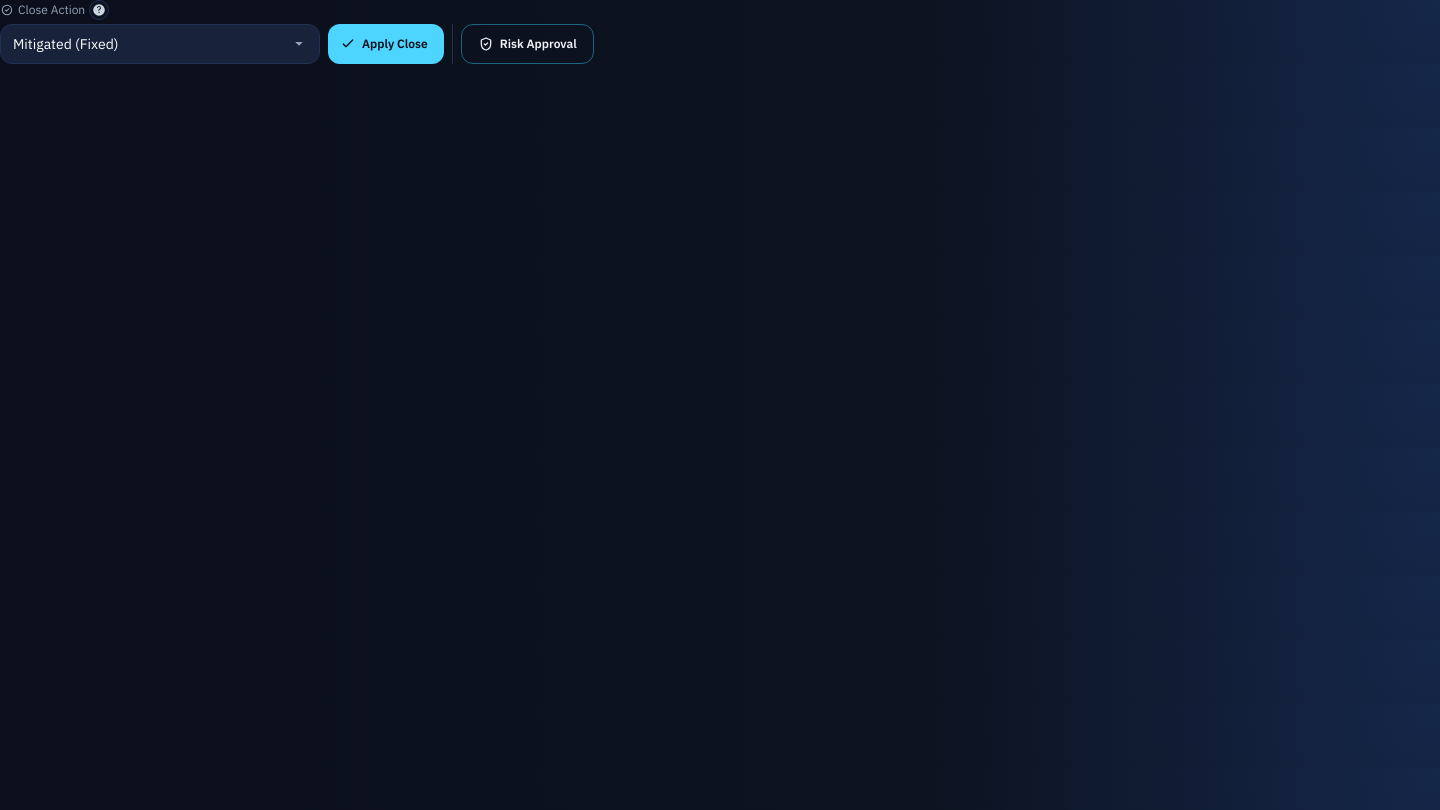
Scenario: FindingStatusActions › shows character counter in modal
Click the button "Risk Approval".
click(527, 44)  # box [461,24,594,64]
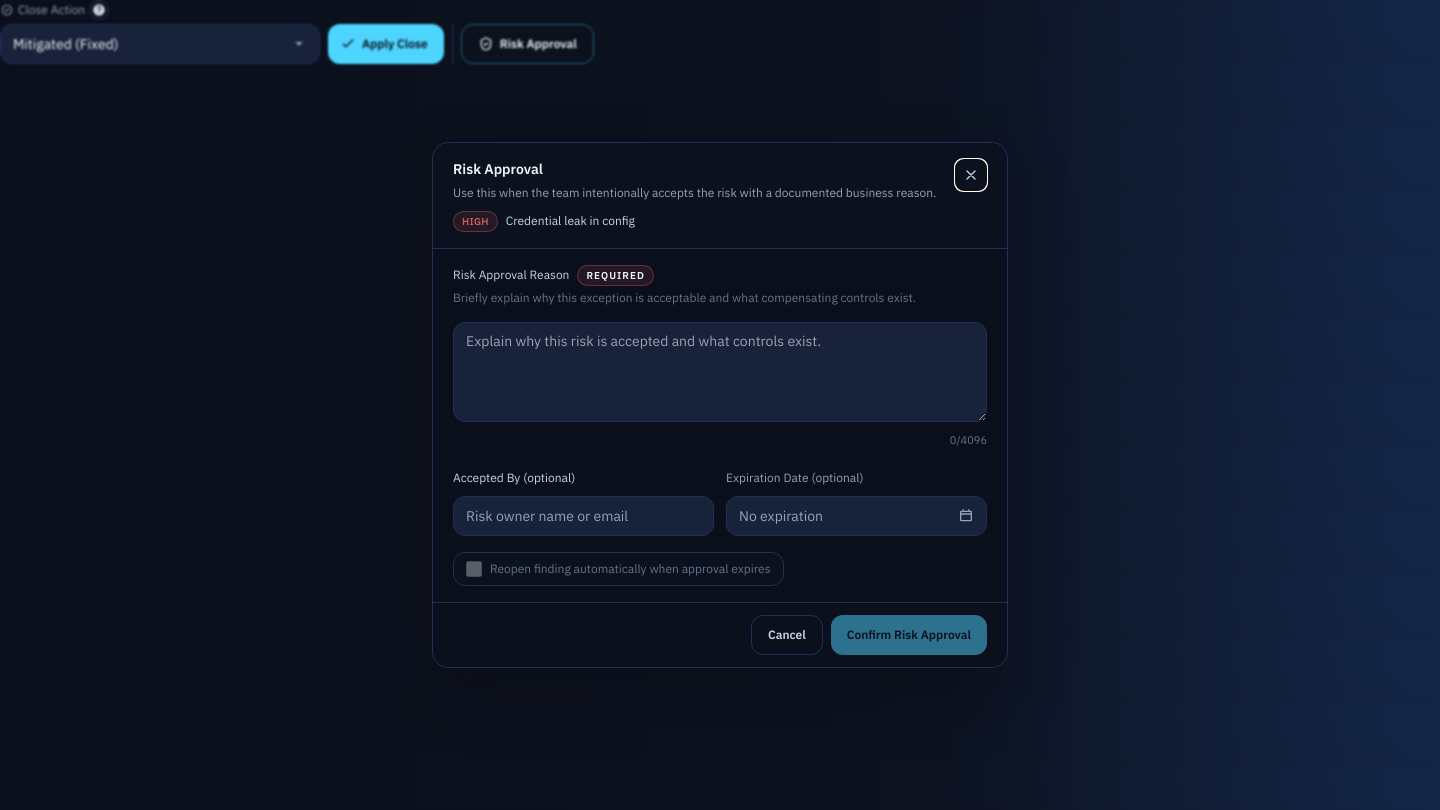
Result: the text "0/4096" is shown at [950,433,987,447]
Type "abc" into the text box with placeholder "Explain why this risk is accepted and what controls exist.".
click(720, 372); type("abc")  # box [453,322,987,422]
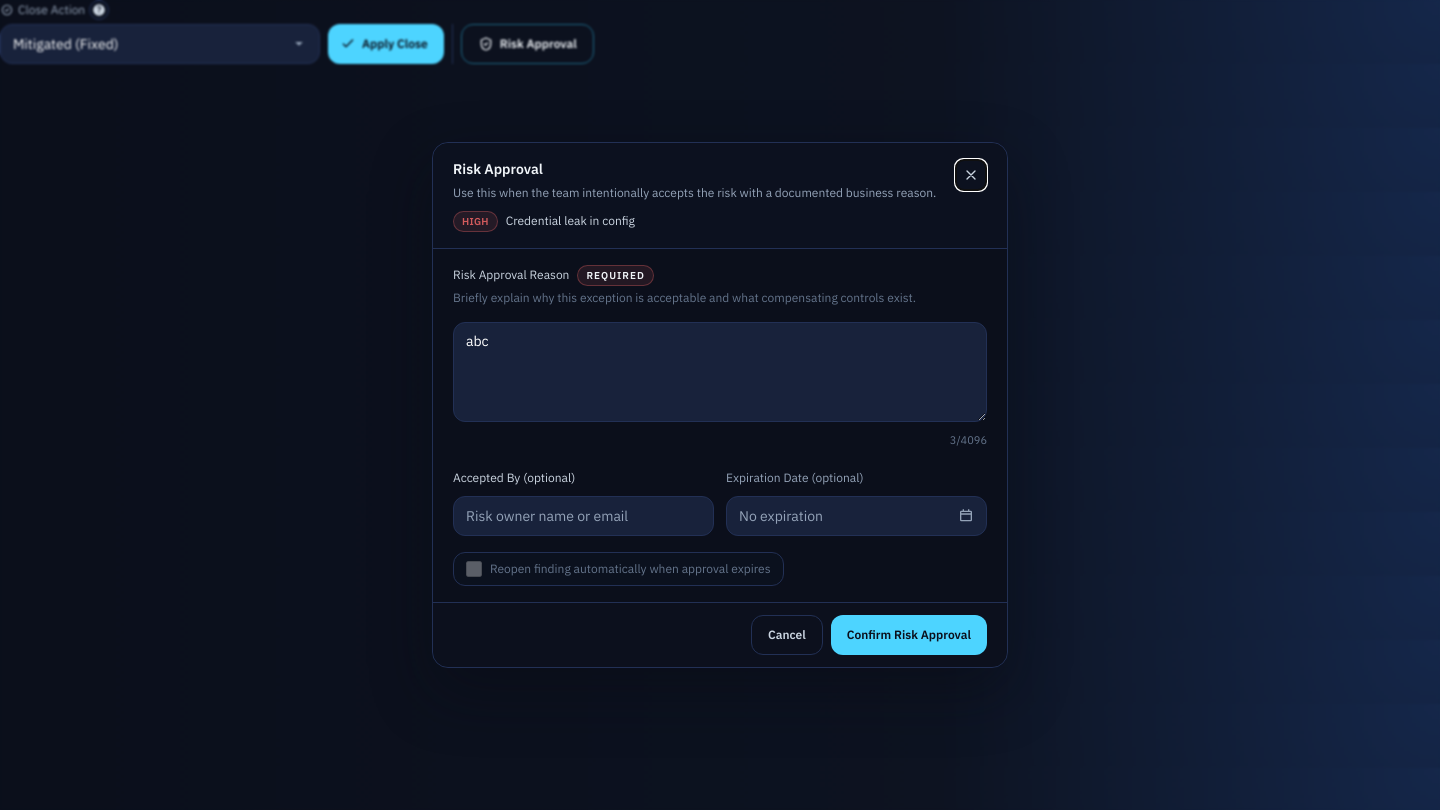
Result: the text "3/4096" is shown at [950,433,987,447]
